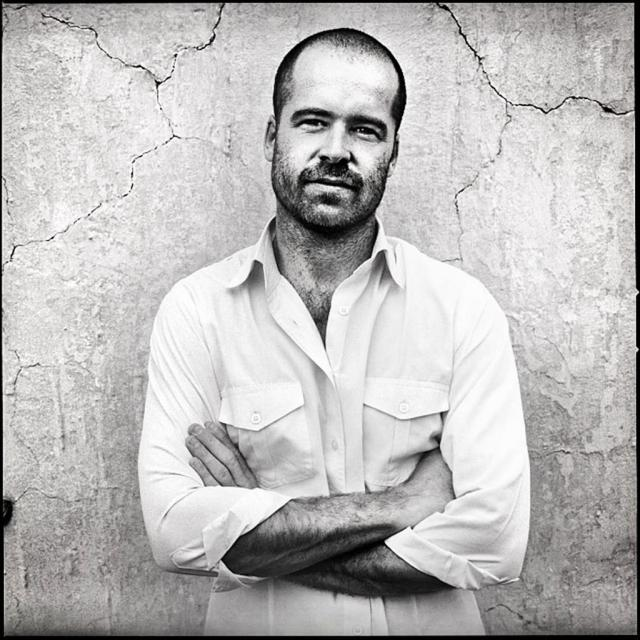nomask: (276, 44, 396, 228)
